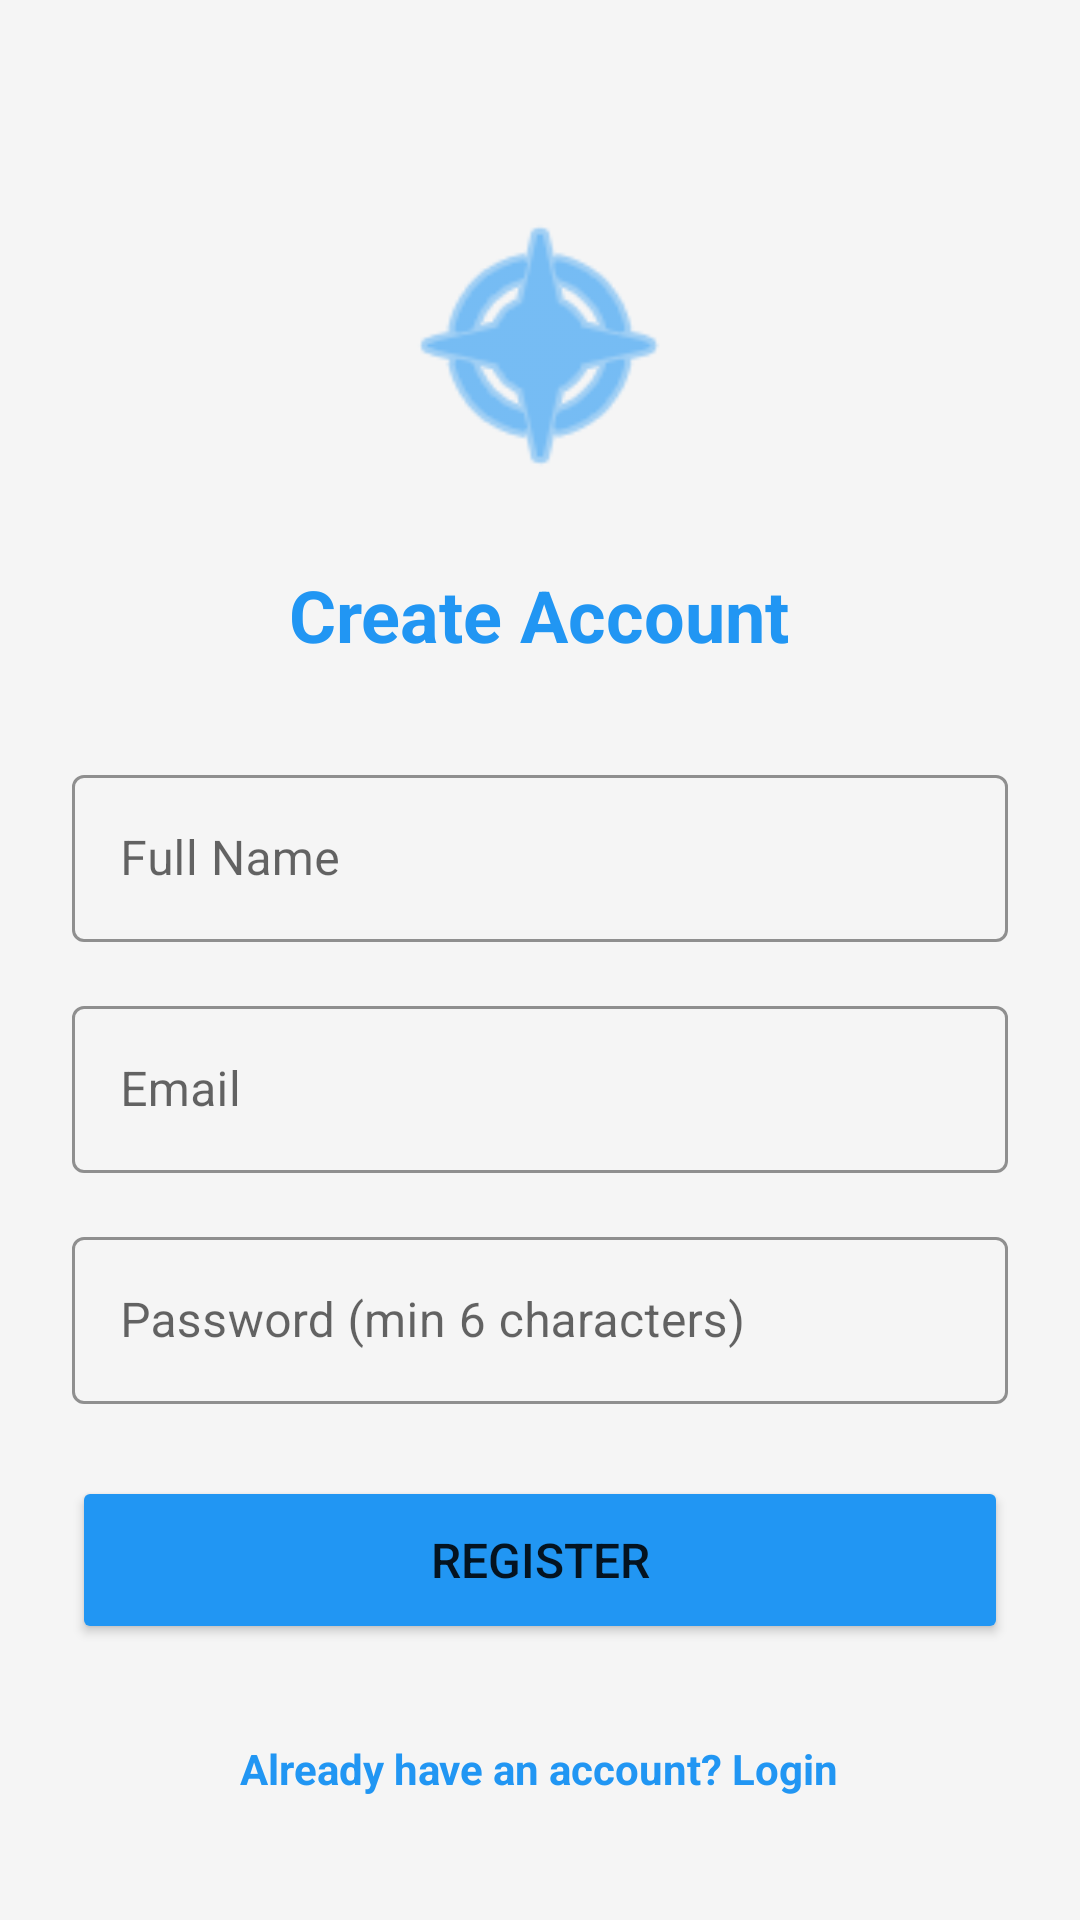

Named icons in this screenshot (1080 × 1920) and their bounding boxes, (x1, y1, x2, y2):
compass: (420, 227, 658, 464)
